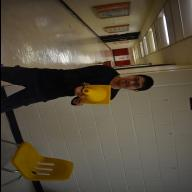cone: (82, 84, 110, 104)
